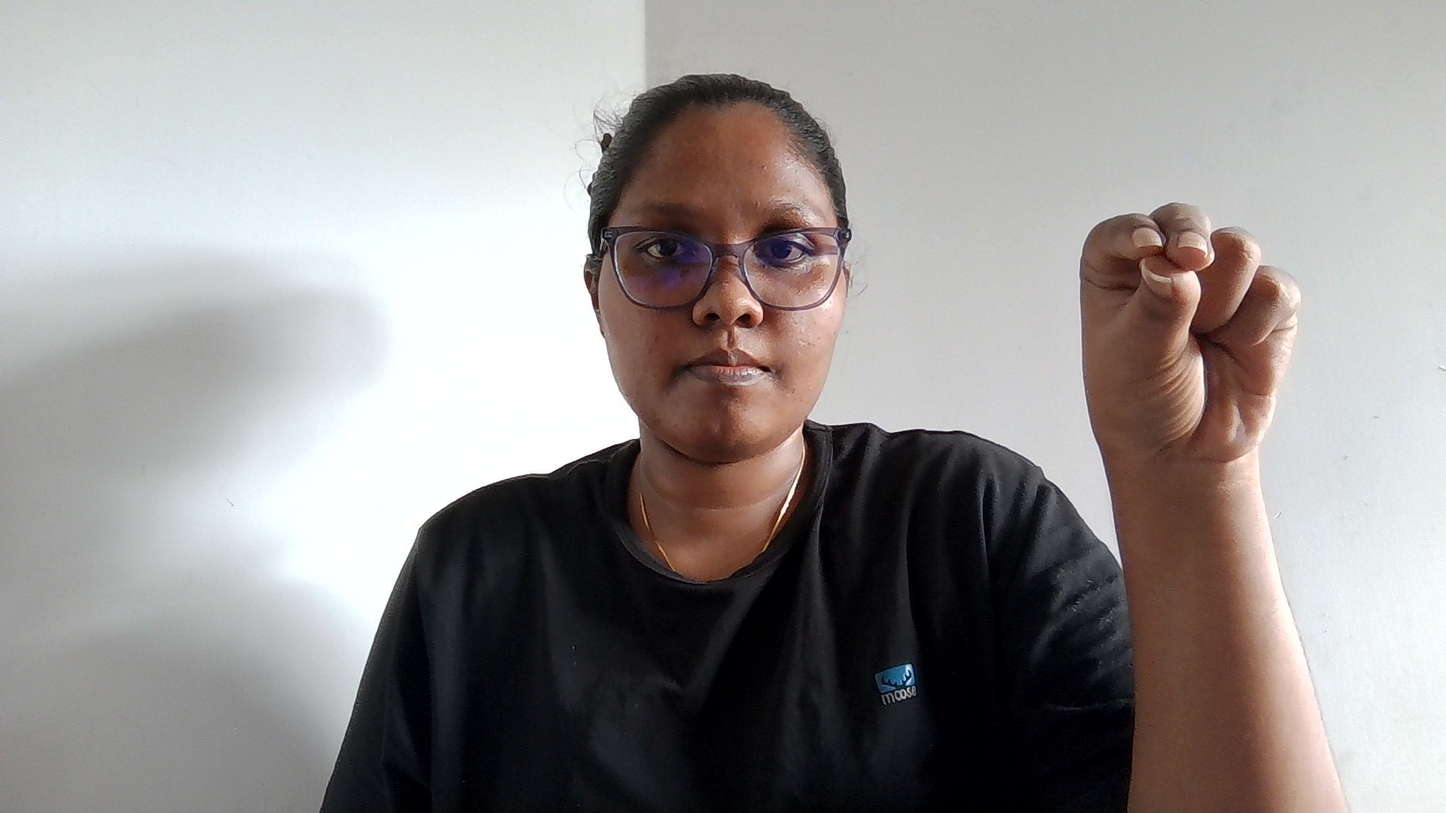No: (1026, 164, 1354, 562)
